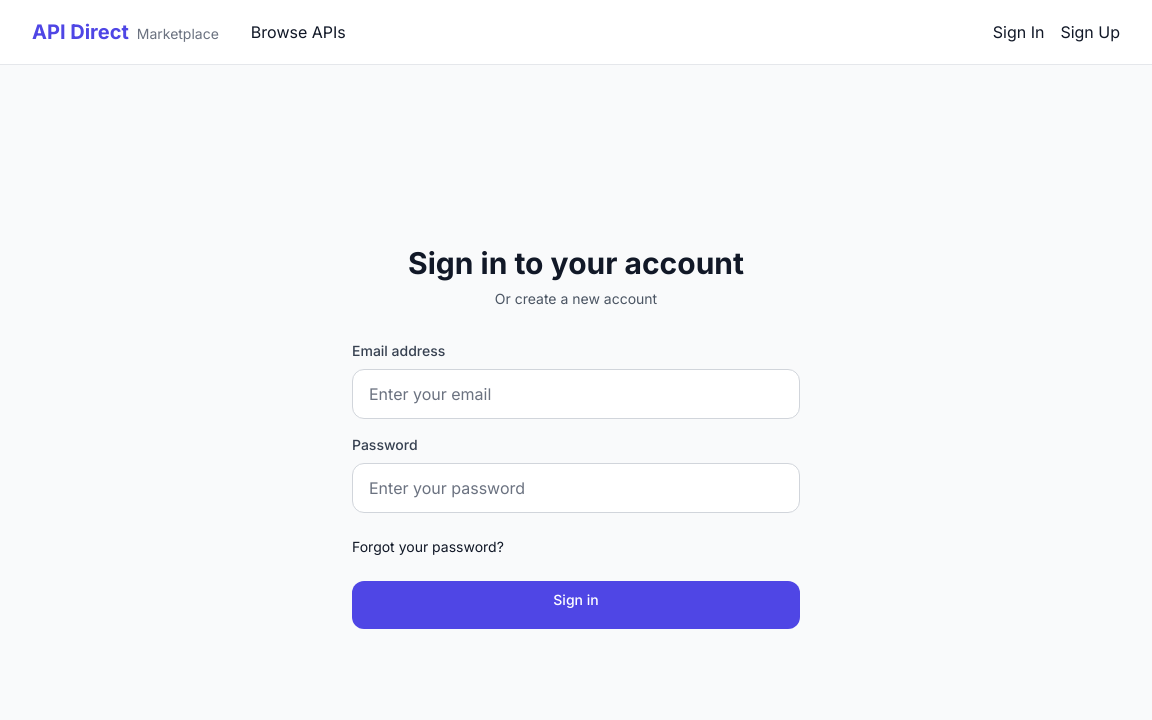
Scenario: Login Page › Rendering › shows loading state when submitting
Type "test@example.com" into the field with placeholder "Enter your email".
click(576, 394); type("test@example.com")  # box [352,369,800,419]
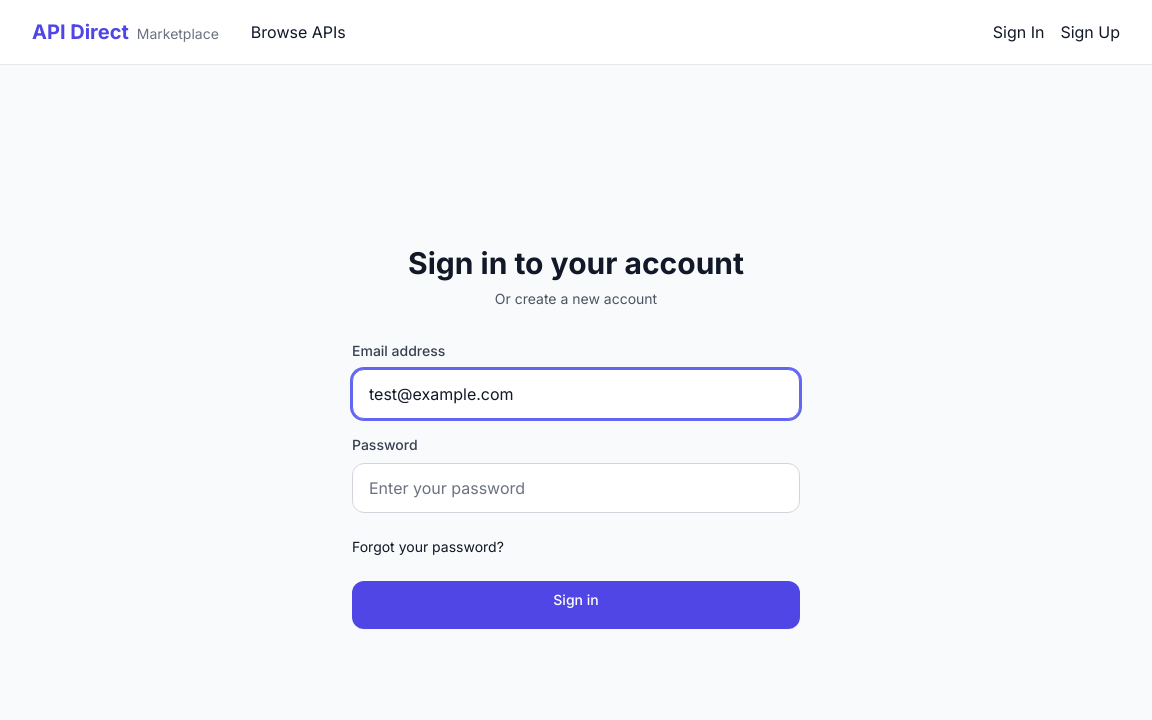
Type "password123" into the password field with placeholder "Enter your password".
click(576, 488); type("password123")  # box [352,463,800,513]
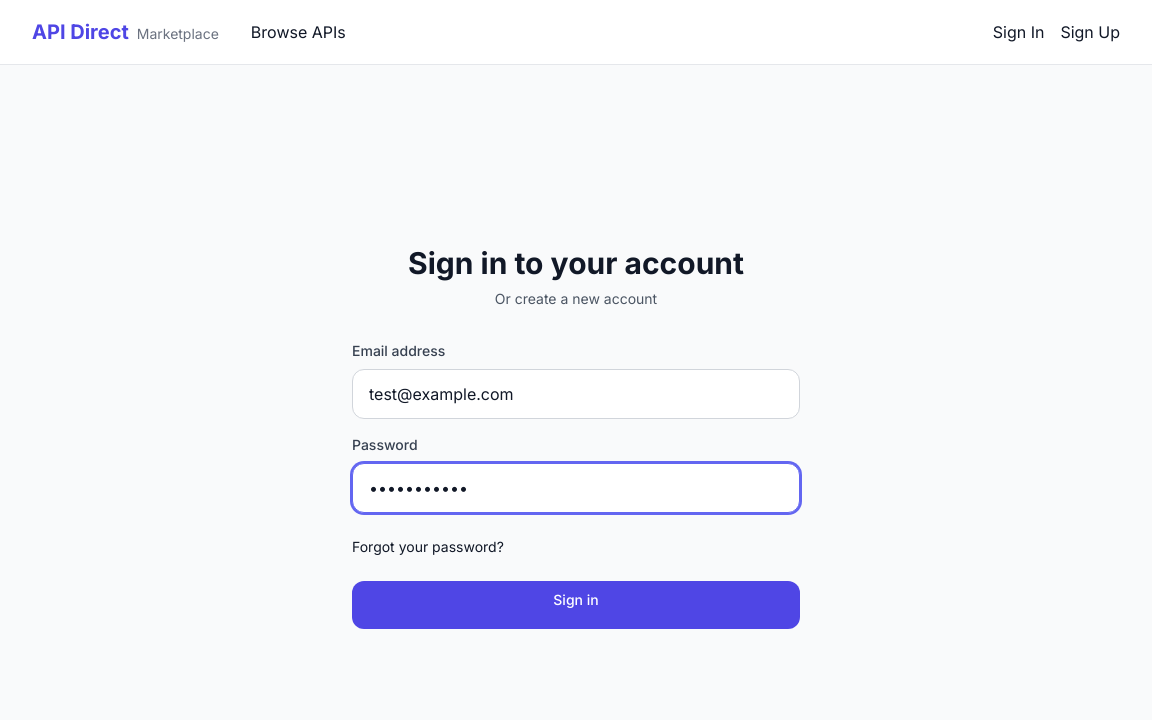
Click the button "Sign in".
click(576, 605)  # box [352,581,800,629]
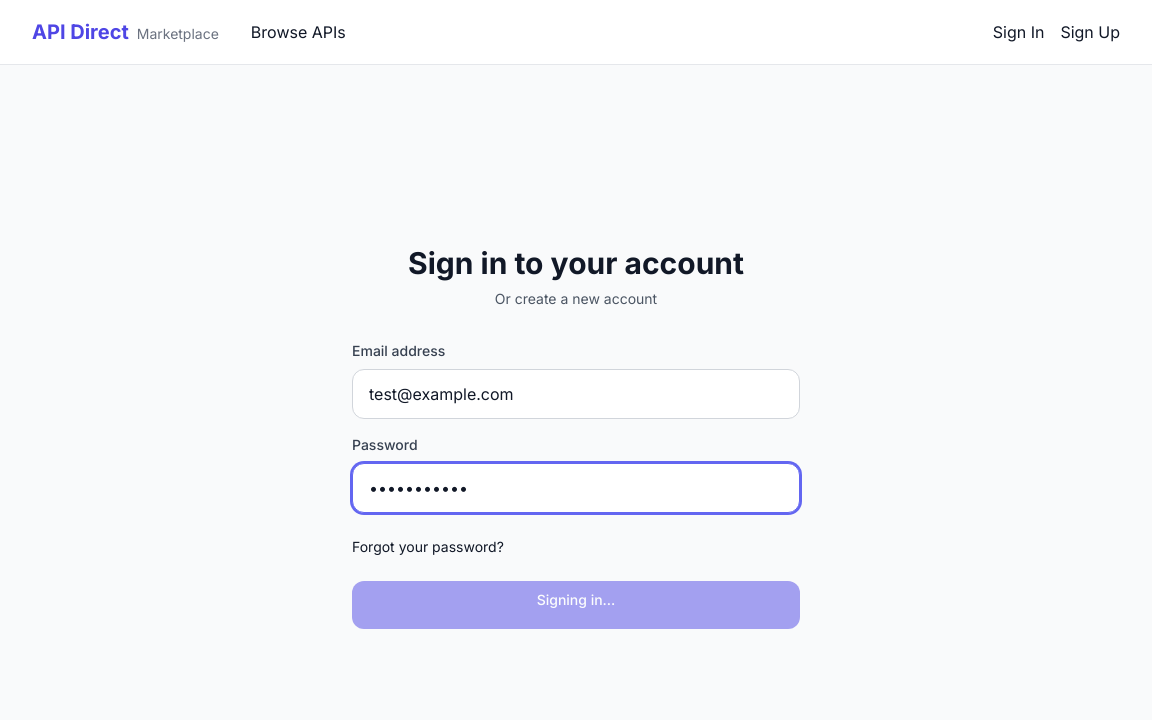
Result: the button named "sign in" is disabled at [352,581,800,629]
Result: the button named "sign in" shows "Signing in" at [352,581,800,629]
